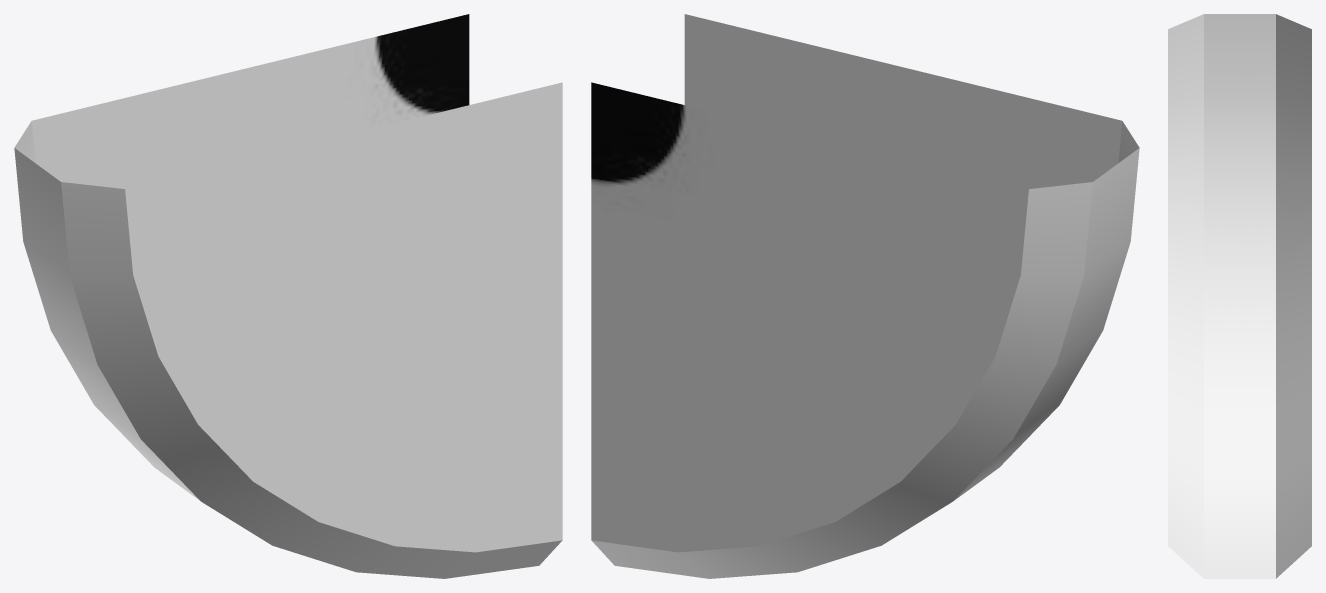
The model's file is QuarterChip.fbx.
3 renders of one model, left to right at view 1: azimuth 30°, elevation 25°; view 2: azimuth 150°, elevation 25°; view 3: azimuth 270°, elevation 25°, orthographic. The views are drawn at different scales.
Parts seen in each view (by area): view 1: Chip_1; view 2: Chip_1; view 3: Chip_1.
Part boxes in pixels (x1,y1,x2,y2): Chip_1: (14,14,562,578); Chip_1: (591,14,1139,578); Chip_1: (1168,14,1311,578).
Bounding box in the file's own units: 59.12 × 59.12 × 20.
